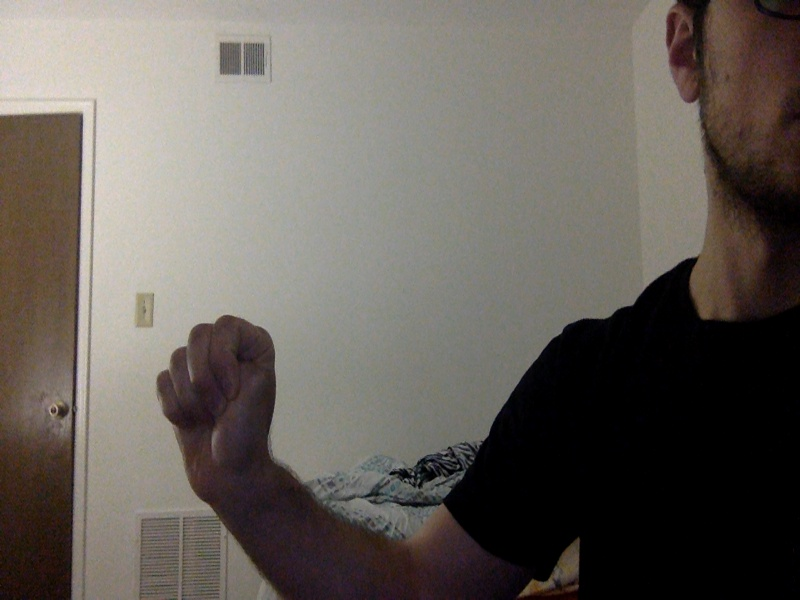0-hand: (154, 317, 284, 503)
